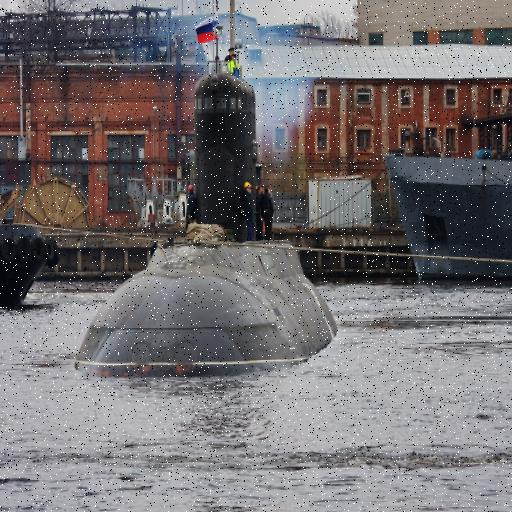submarine: (86, 1, 339, 372)
